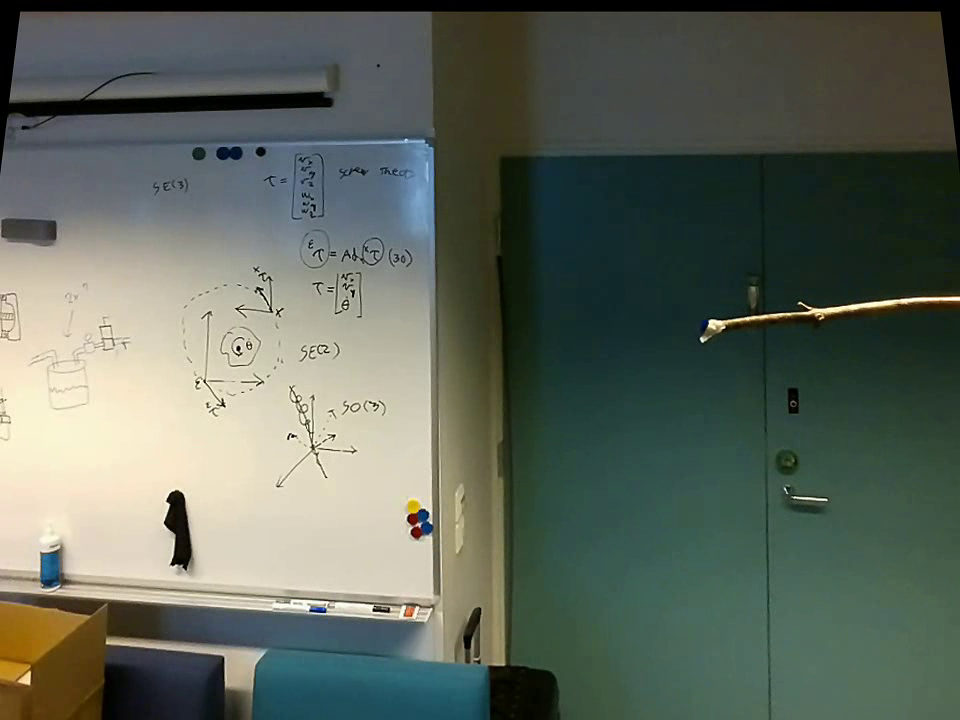aluminum_frame: (1, 568, 439, 629), (422, 133, 447, 601), (2, 134, 439, 150)
branch: (731, 288, 954, 336)
